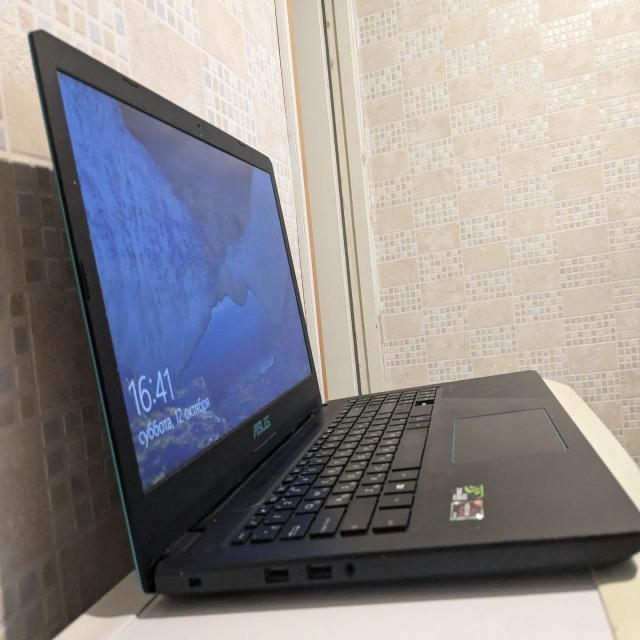missing_key: (414, 400, 437, 408)
